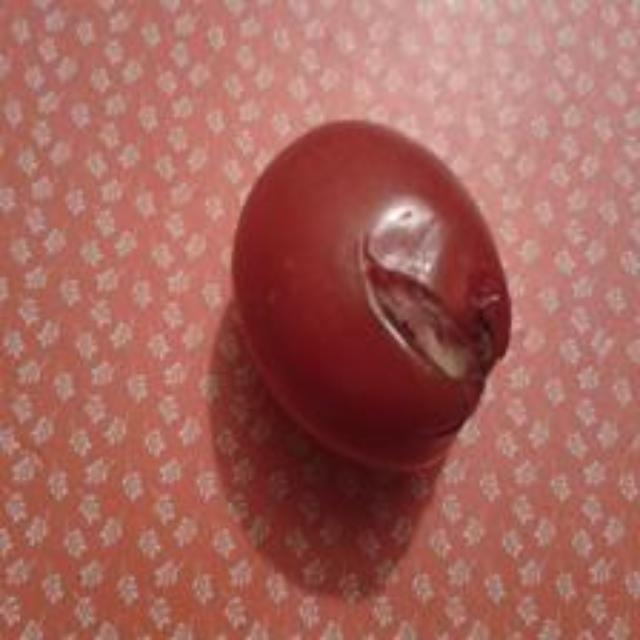defect: (229, 117, 518, 479)
